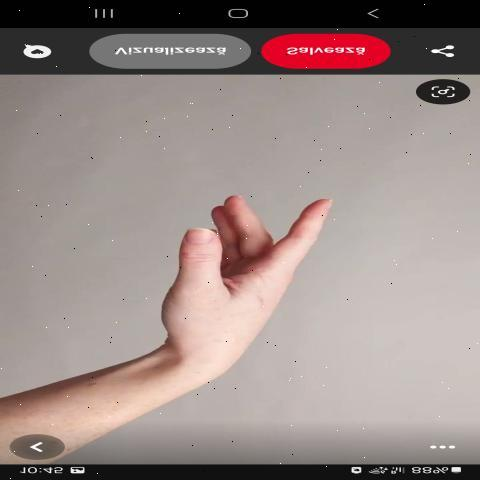Hands: (112, 155, 395, 400)
